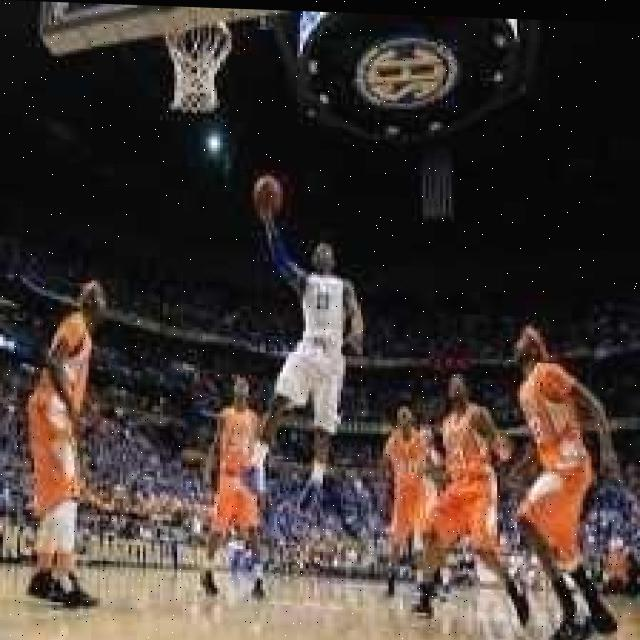basketball: (250, 172, 284, 214)
hoop: (164, 16, 233, 116)
